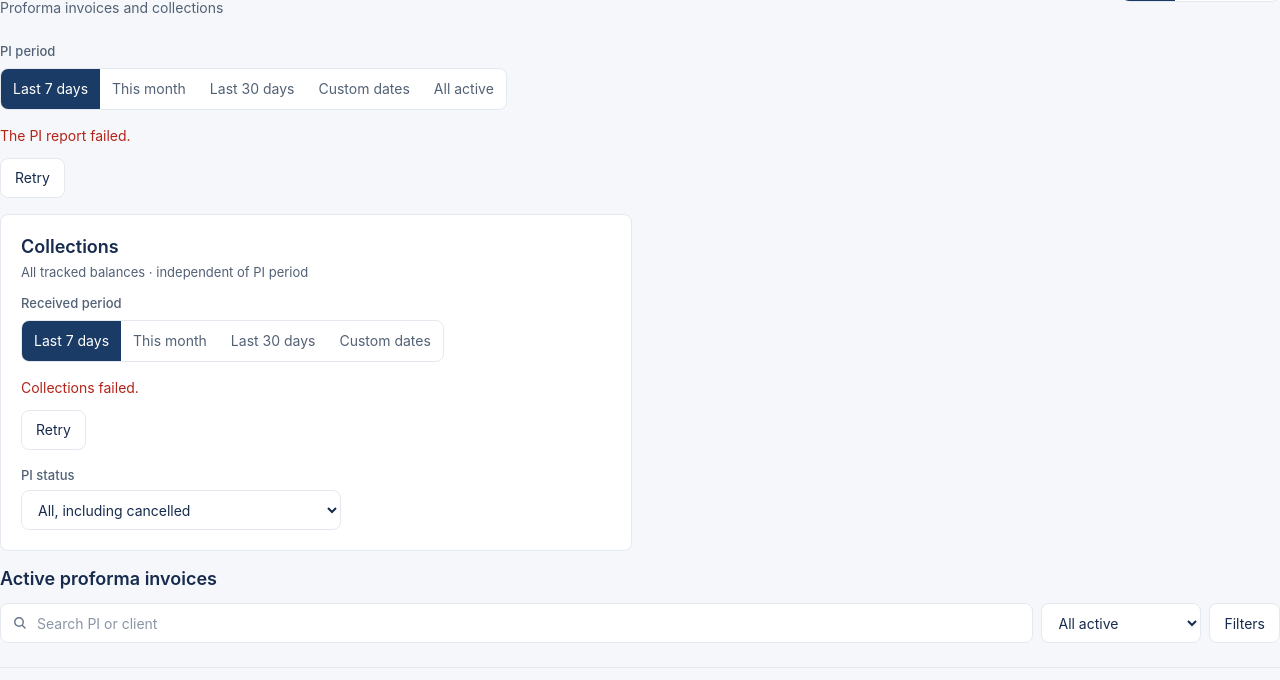
dashboard currency, filters, and figures › shows an error and retry instead of a zero when the first report fails, and keeps the last figures when the same figures fail to refresh
Click the button "Retry" below "The PI report failed.": (32, 178) [0,158,65,198]
(page scrolled)
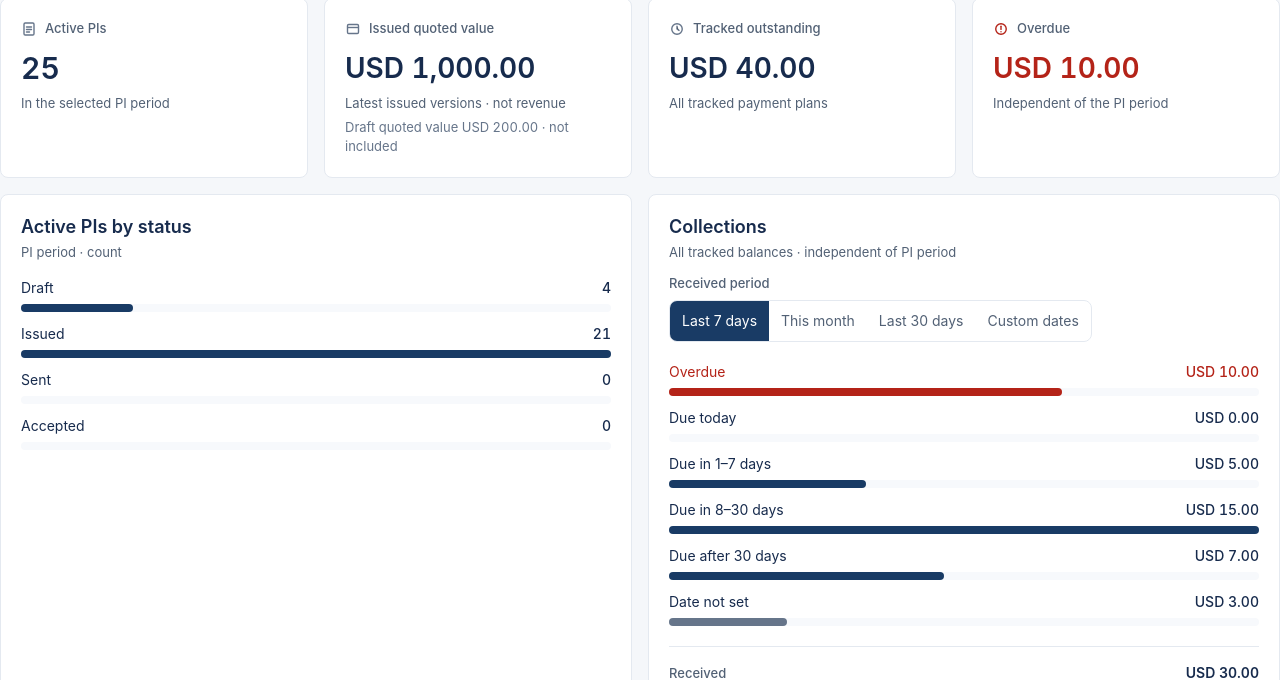
Check: the text "USD 1,000.00" is shown, box [345,51,535,85]
Click the 2nd button "This month": (818, 321) [769,301,867,341]
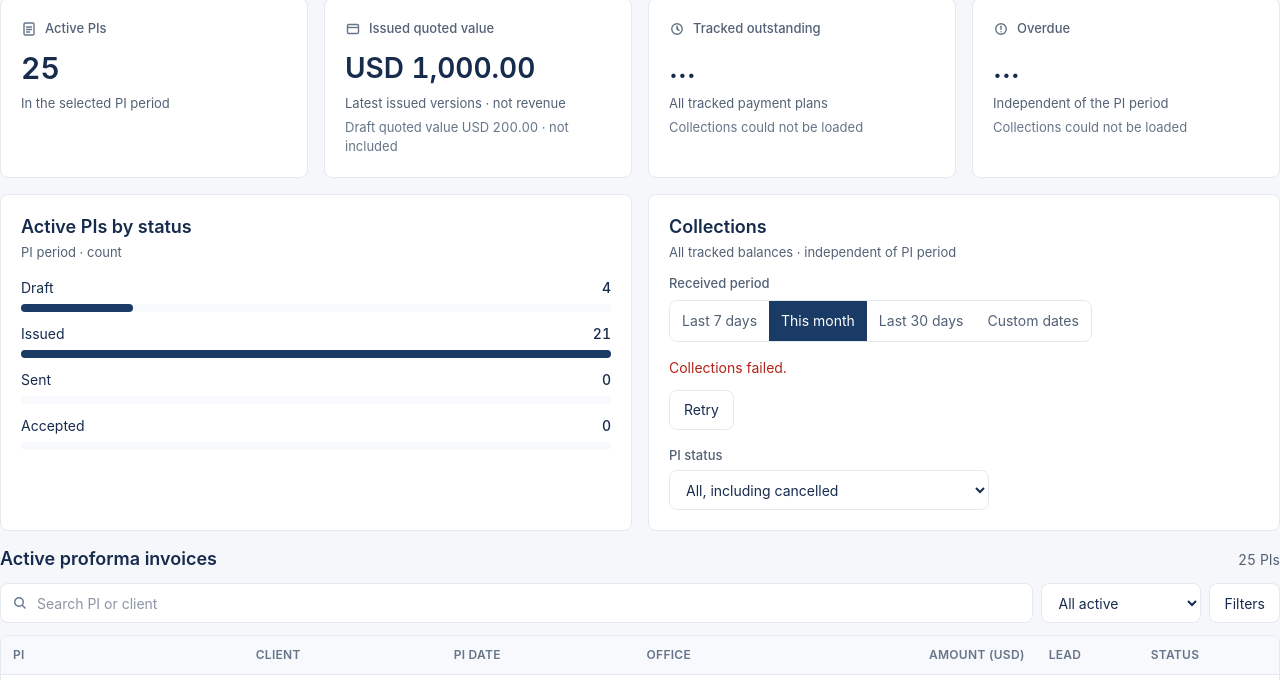
Check: the text "USD 30.00" is not shown
Check: the text "Collections failed." is shown, box [669,359,787,376]
Click the 2nd button "Last 7 days": (720, 321) [670,301,769,341]
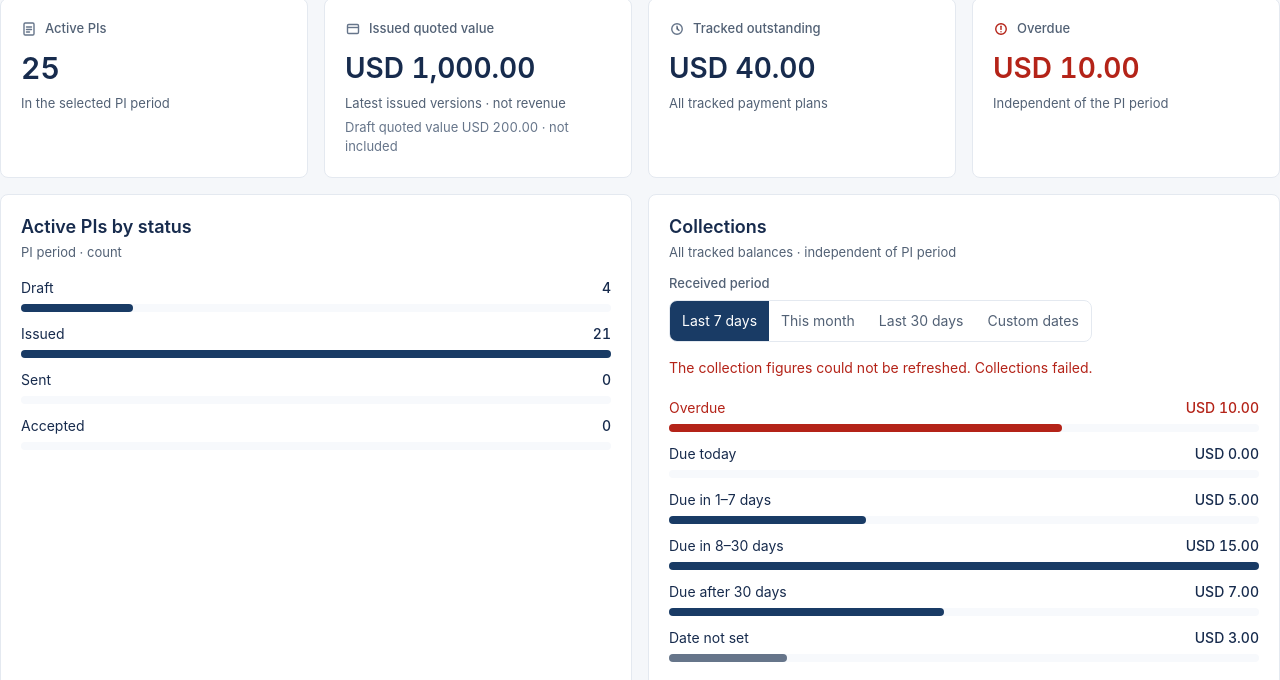
Check: the text "could not be refreshed" is shown, box [669,359,1093,376]
